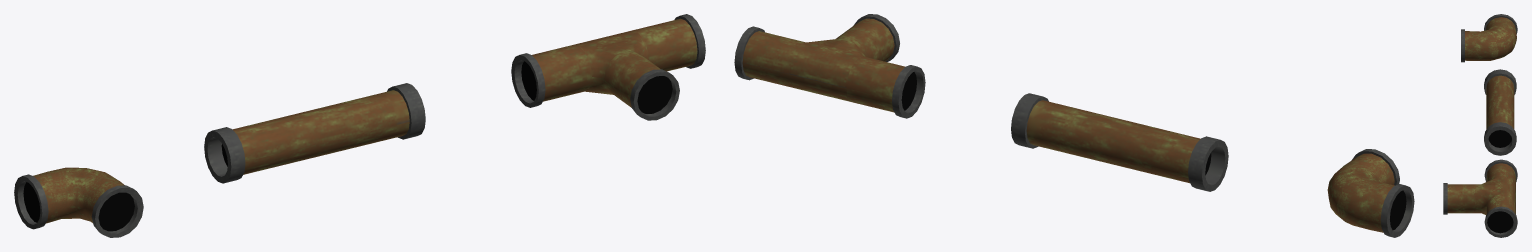
The model's file is Pipe.fbx.
3 renders of one model, left to right at view 1: azimuth 30°, elevation 25°; view 2: azimuth 150°, elevation 25°; view 3: azimuth 270°, elevation 25°, orthographic. The views are drawn at different scales.
Parts seen in each view (by area): view 1: Pipe_3, Pipe_1, Pipe_2; view 2: Pipe_3, Pipe_1, Pipe_2; view 3: Pipe_3, Pipe_1, Pipe_2.
Boxes of the visible parts, box(x1,y1,x2,y2) form: Pipe_3: box(511, 14, 705, 120); Pipe_1: box(204, 83, 425, 183); Pipe_2: box(14, 167, 143, 237); Pipe_3: box(734, 14, 925, 118); Pipe_1: box(1011, 93, 1228, 191); Pipe_2: box(1327, 149, 1414, 237); Pipe_3: box(1443, 159, 1517, 237); Pipe_1: box(1484, 69, 1516, 155); Pipe_2: box(1461, 14, 1517, 62).
Size of the model in its own units: 2.03 by 0.1442 by 0.3288.
